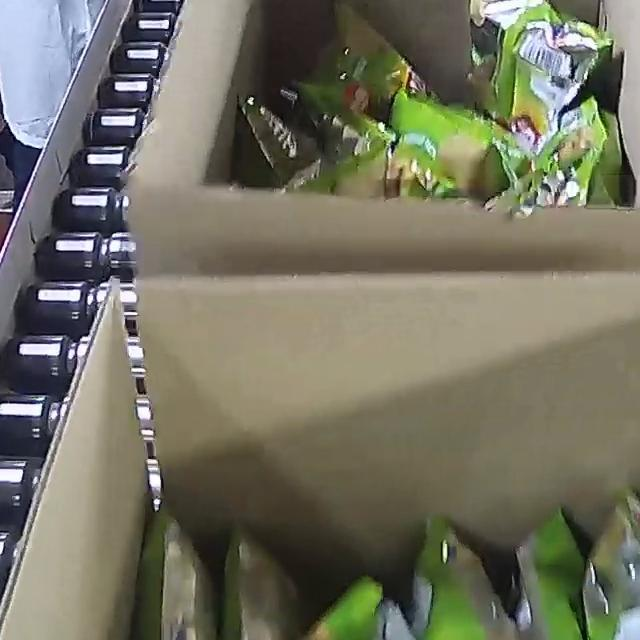yogurt: (100, 407, 640, 640), (268, 0, 620, 211)
